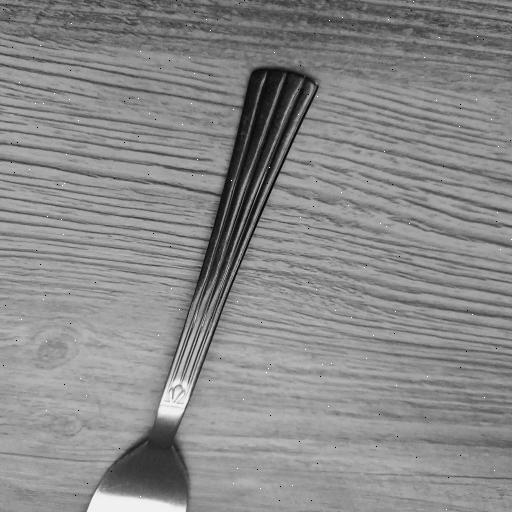fork: (80, 64, 324, 512)
